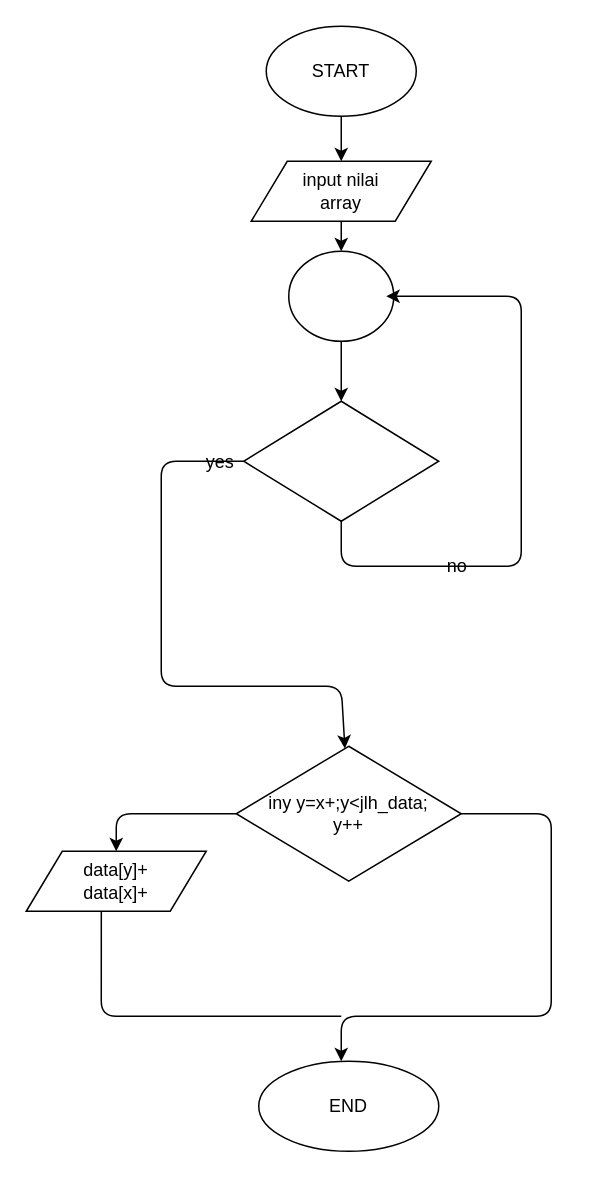
Some shapes in this 590 by 1178 pixel diagram are drawn without their labels. The centre of each missing label's shape, as x and y in pixels:
"int x=0;x<jlh_data; x++" belongs at (x=340, y=460).
"loop" belongs at (x=340, y=295).
